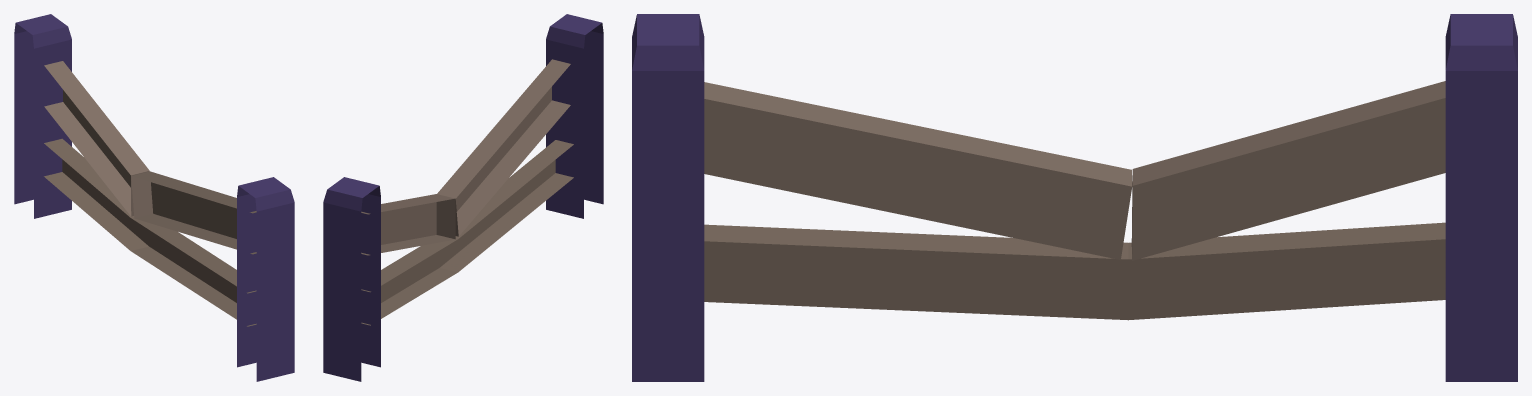
File: brokenCenter.fbx
3 views of the same model, side by side, from view 1: azimuth 30°, elevation 25°; view 2: azimuth 150°, elevation 25°; view 3: azimuth 270°, elevation 25° (orthographic). The views are drawn at different scales.
Visible parts, largest first — view 1: Cube.002, Cube, Cube.001, Cube.003; view 2: Cube.002, Cube.001, Cube, Cube.003; view 3: Cube.002, Cube.003, Cube, Cube.001.
Part boxes in pixels (x1,y1,x2,y2): Cube.002: (44,61,256,254); Cube: (237,177,294,381); Cube.001: (14,14,71,218); Cube.003: (44,138,256,326); Cube.002: (361,59,570,255); Cube.001: (323,177,380,381); Cube: (546,14,603,218); Cube.003: (361,140,573,325); Cube.002: (704,81,1445,260); Cube.003: (704,222,1445,320); Cube: (632,14,704,381); Cube.001: (1445,14,1517,381).
Size of the model in its own units: 43.56 by 200 by 481.
